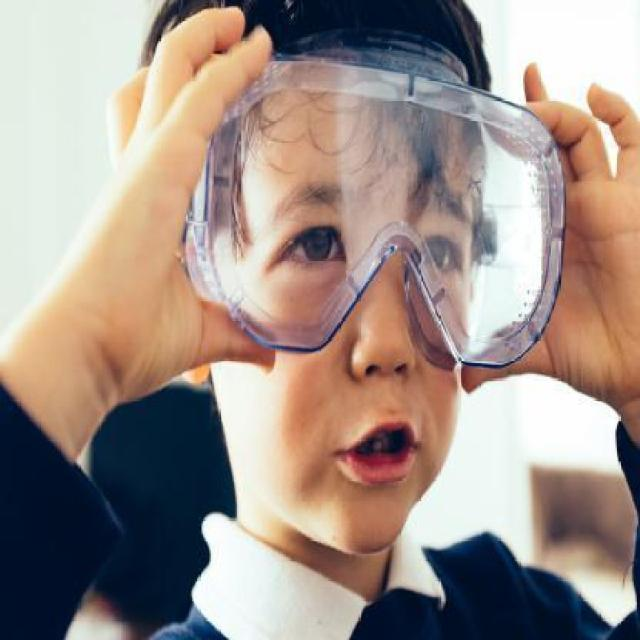face_nomask: (254, 202, 472, 503)
glasses: (190, 33, 567, 362)
hand_noglove: (83, 11, 286, 372), (475, 60, 640, 398)
